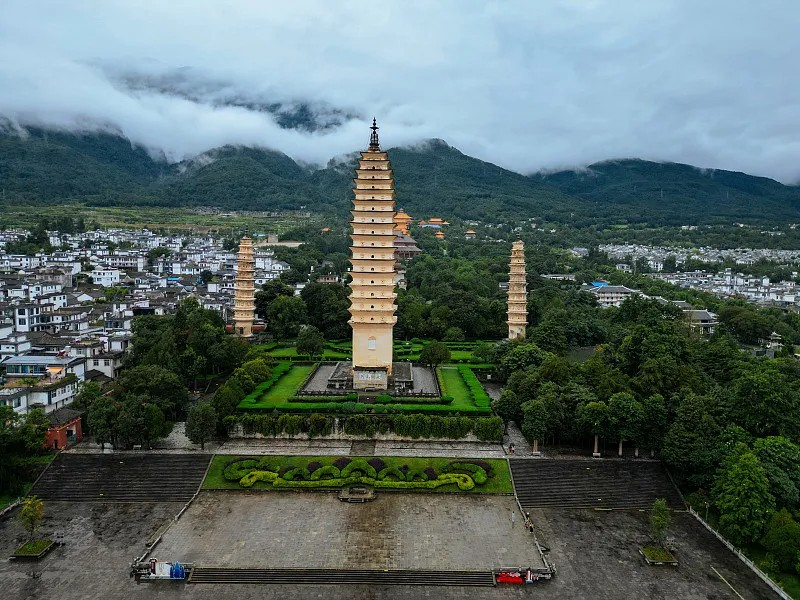ThreePagoda: (346, 117, 398, 374)
